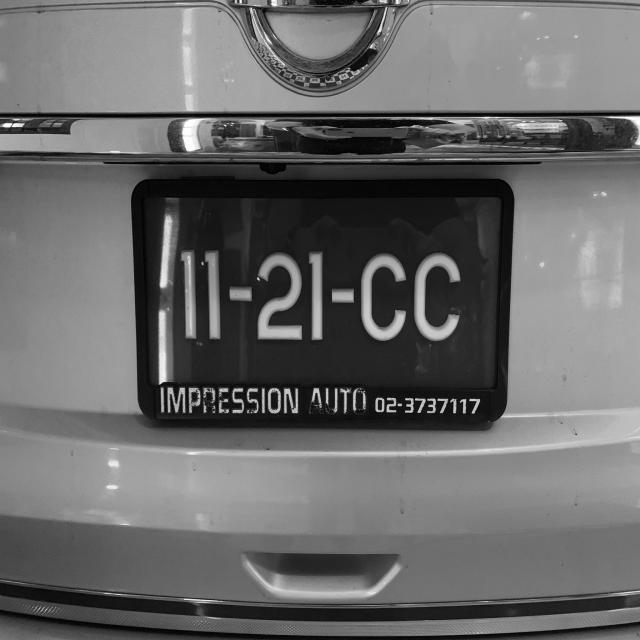car-plate: (139, 184, 507, 426)
